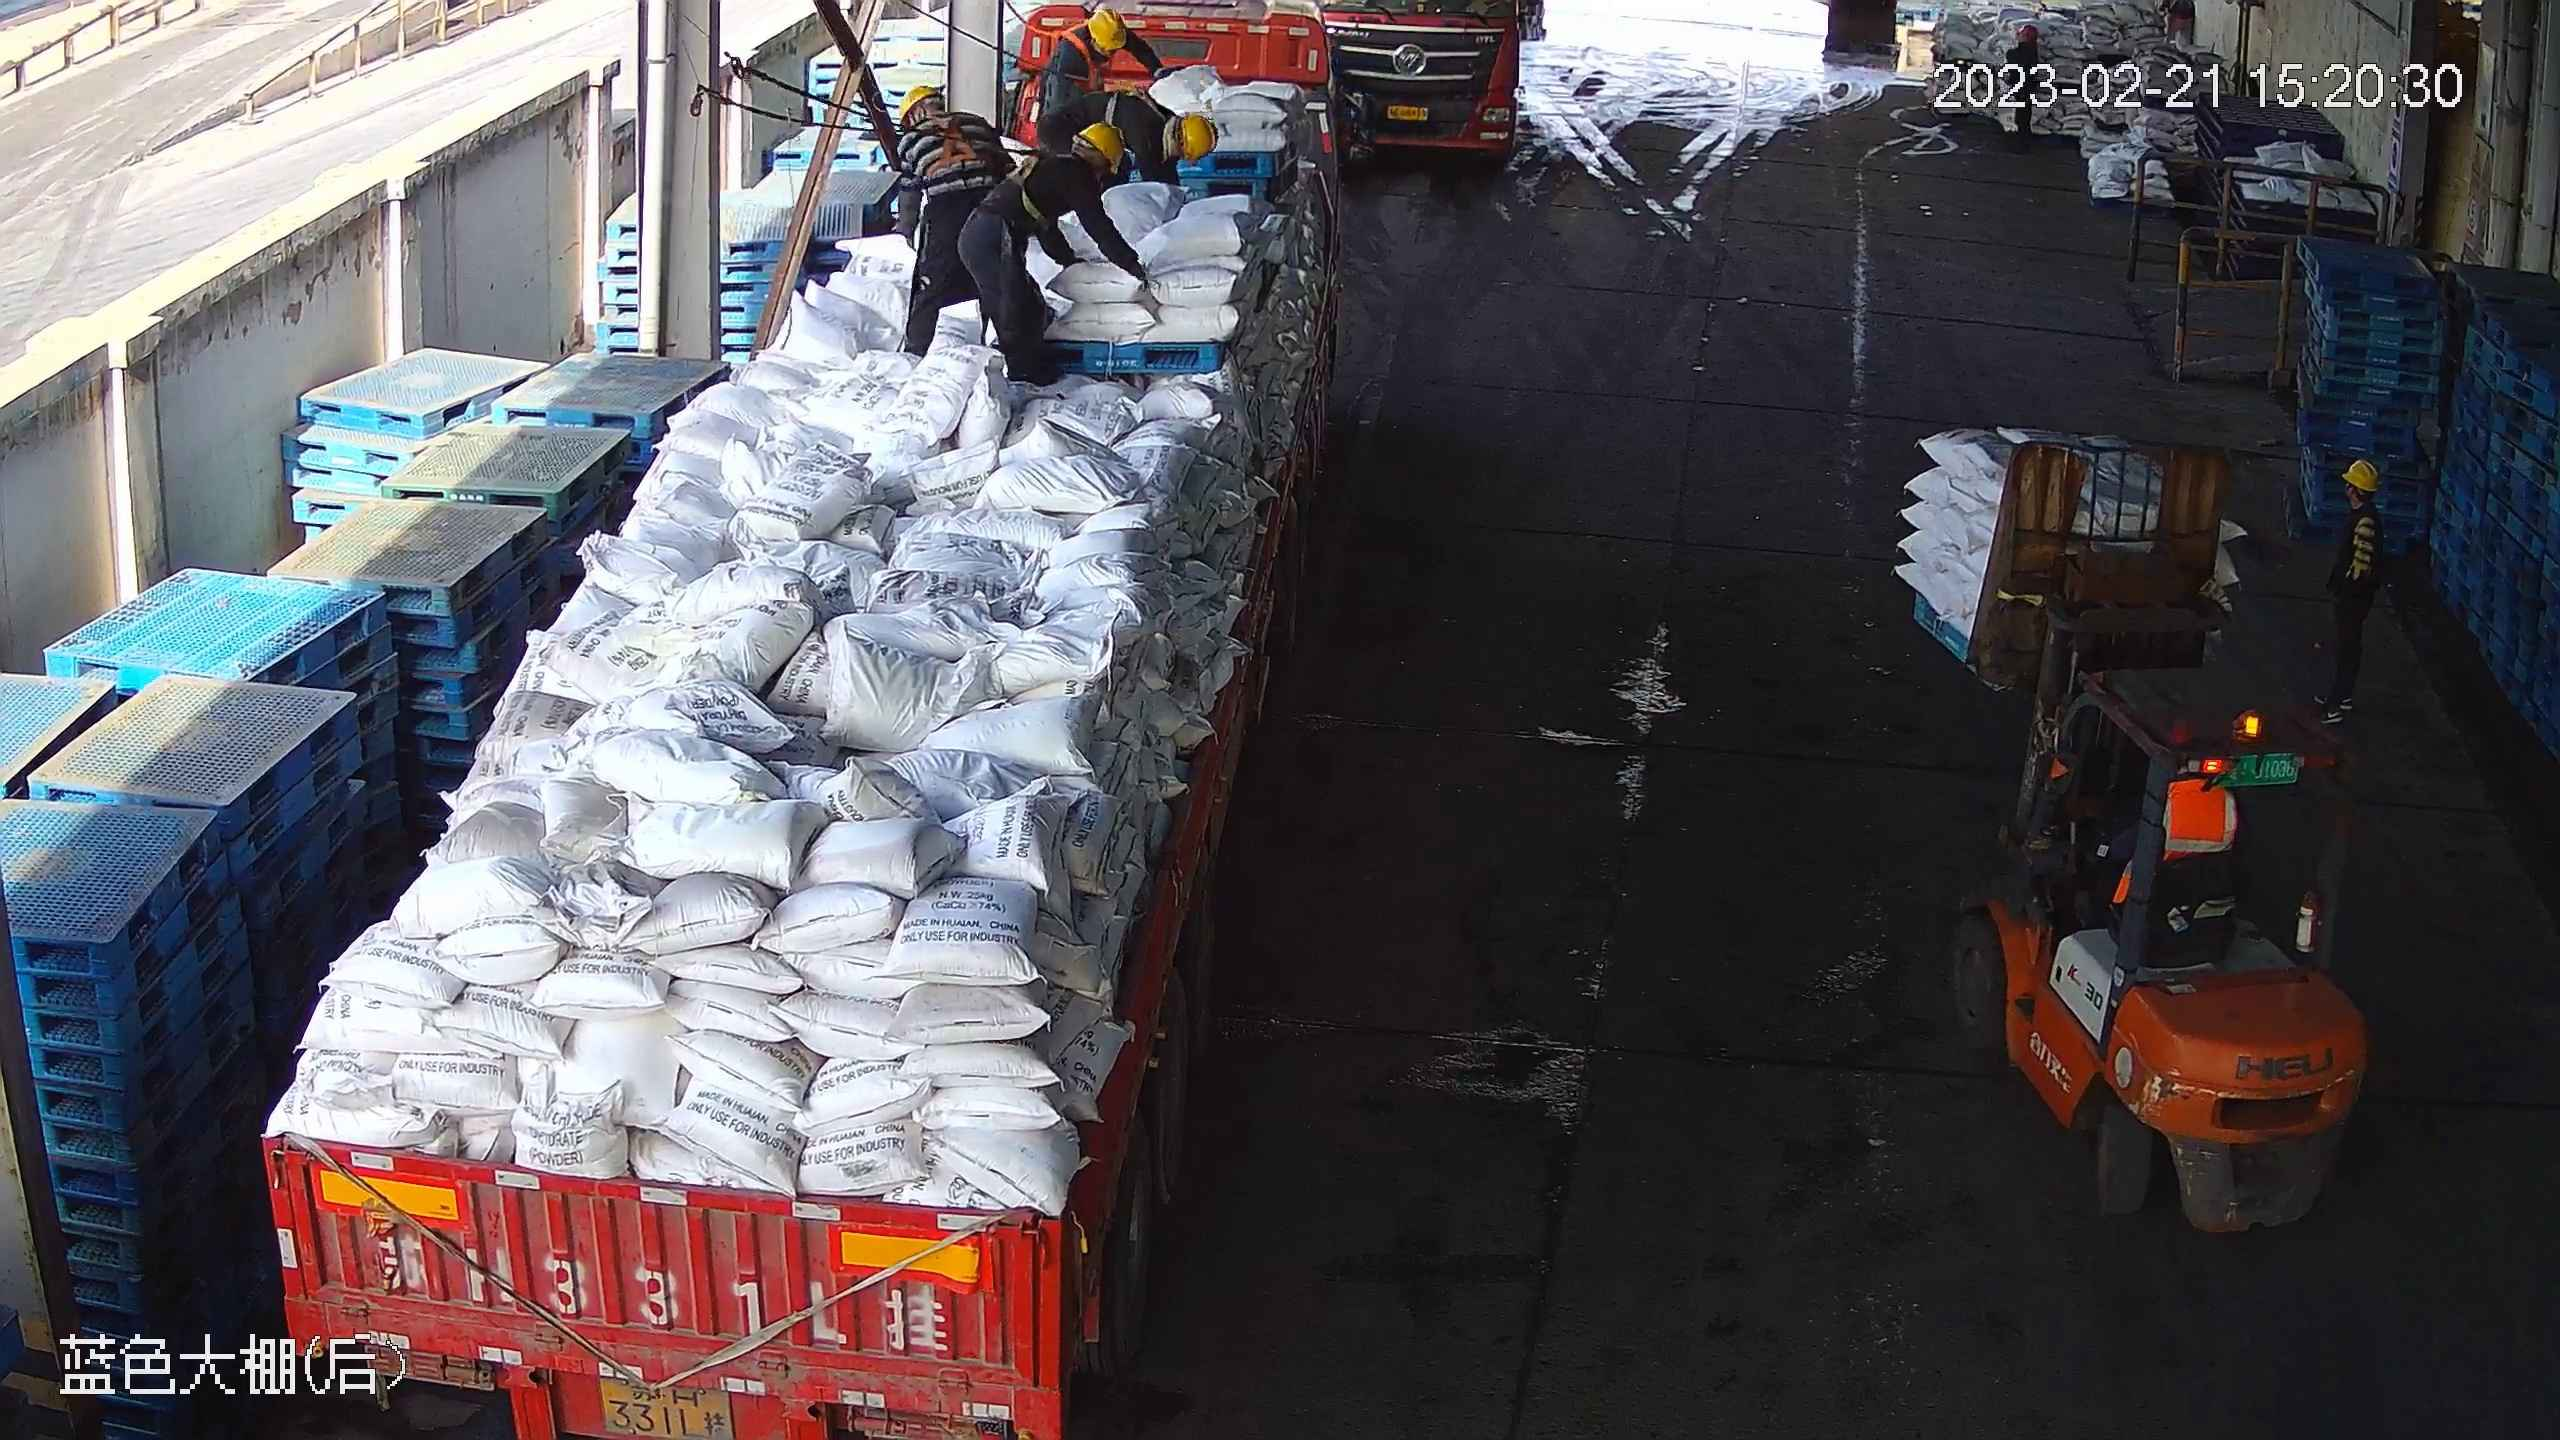belt: (1015, 142, 1085, 236), (1105, 92, 1170, 162), (1056, 22, 1117, 87), (917, 123, 987, 174)
head: (1015, 119, 1130, 207), (887, 81, 1000, 162), (1123, 88, 1215, 176), (886, 80, 992, 153), (1051, 5, 1140, 78), (2333, 459, 2390, 544)
helmet: (1080, 124, 1130, 173), (1085, 3, 1130, 57), (902, 76, 945, 125), (1177, 108, 1217, 159), (2340, 454, 2379, 493)
people: (968, 118, 1143, 387), (886, 79, 1014, 347), (2307, 450, 2395, 723)
truck: (227, 6, 1348, 1440), (1325, 4, 1546, 173)
